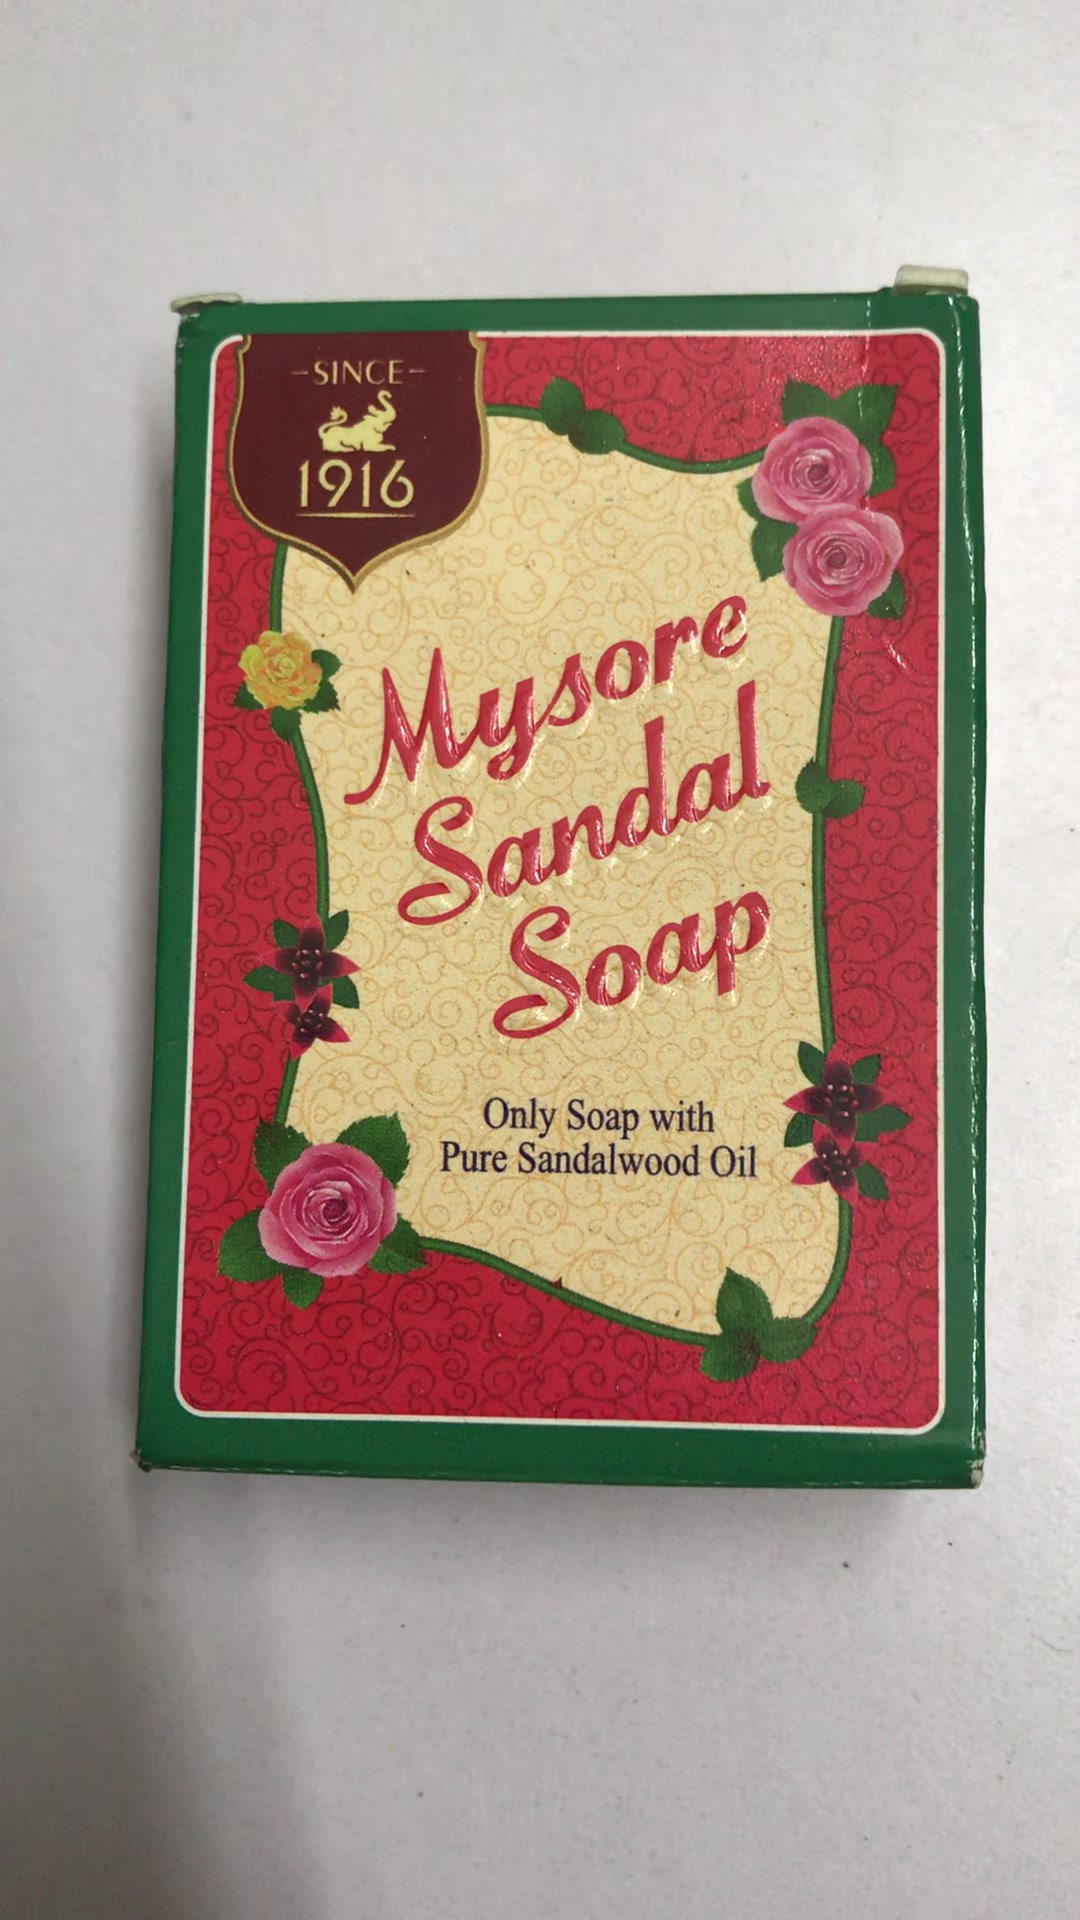mysore sandal soap: (167, 295, 982, 1491)
